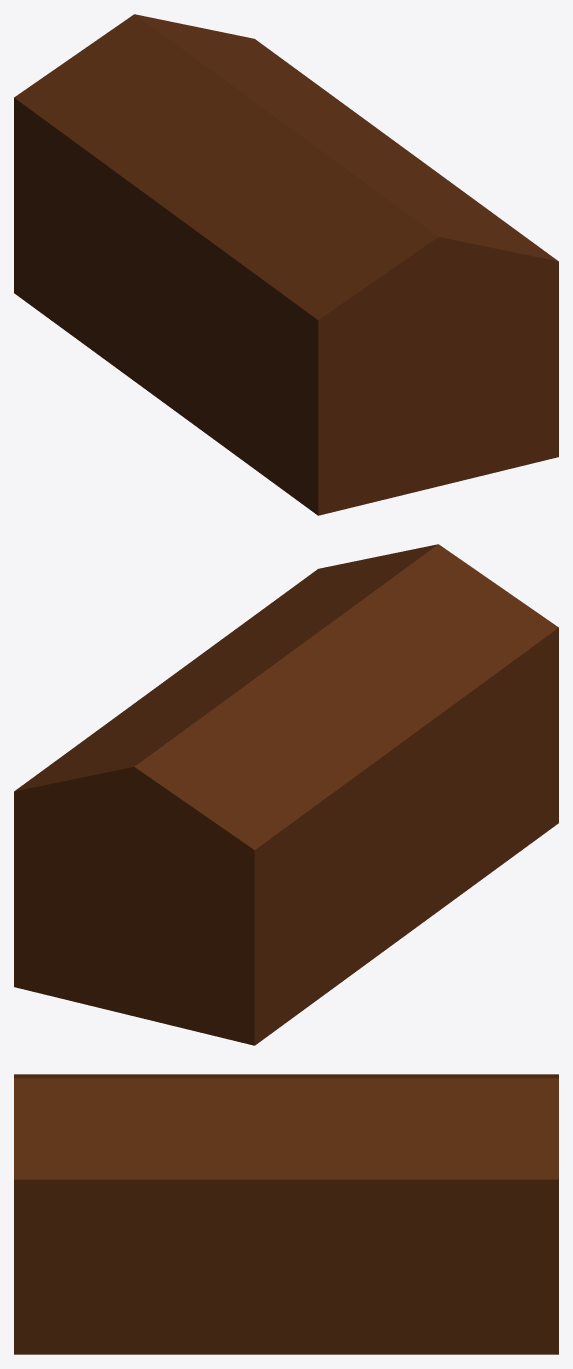
Rendered from House.fbx.
The picture shows the model from 3 angles, top to bottom: view 1: azimuth 30°, elevation 25°; view 2: azimuth 150°, elevation 25°; view 3: azimuth 270°, elevation 25°; orthographic projection. The views are drawn at different scales.
Parts seen in each view (by area): view 1: Cube; view 2: Cube; view 3: Cube.
Boxes of the visible parts, x1=… form: Cube: x1=14, y1=14, x2=558, y2=515; Cube: x1=14, y1=544, x2=558, y2=1045; Cube: x1=14, y1=1074, x2=558, y2=1354.
Bounding box in the file's own units: 620 × 615 × 1358.
